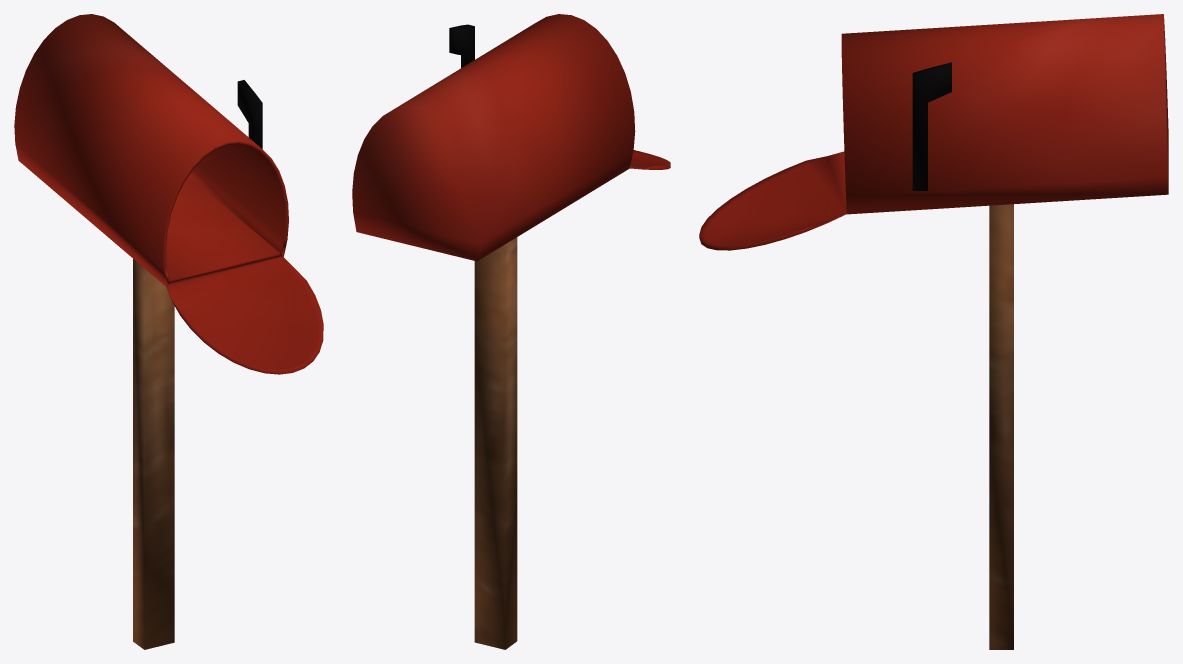
File: posta kutusu.fbx
3 views of the same model, side by side, from view 1: azimuth 30°, elevation 25°; view 2: azimuth 150°, elevation 25°; view 3: azimuth 270°, elevation 25° (orthographic). The views are drawn at different scales.
Parts seen in each view (by area): view 1: Cube.004; view 2: Cube.004; view 3: Cube.004.
Part boxes in pixels (left/top/right/bottom): Cube.004: left=14, top=14, right=323, bottom=649; Cube.004: left=352, top=14, right=670, bottom=649; Cube.004: left=699, top=14, right=1168, bottom=649.
Size of the model in its own units: 77.64 by 324 by 221.
1 material, 1 textured.
